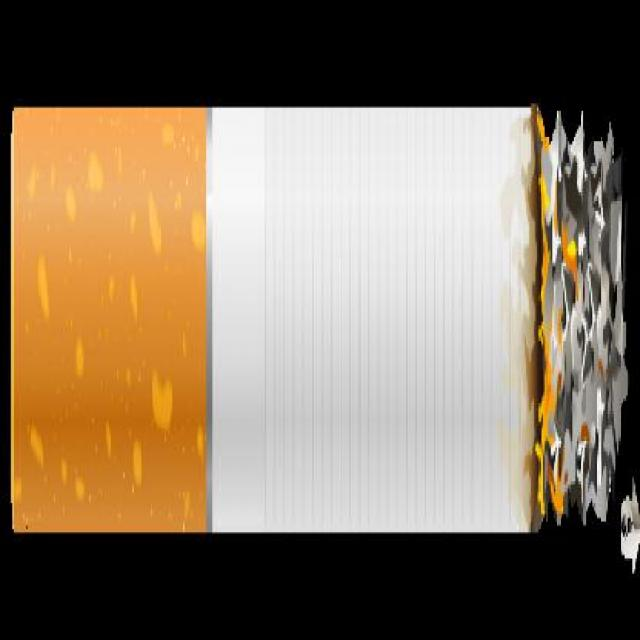cigarette: (4, 74, 630, 537)
